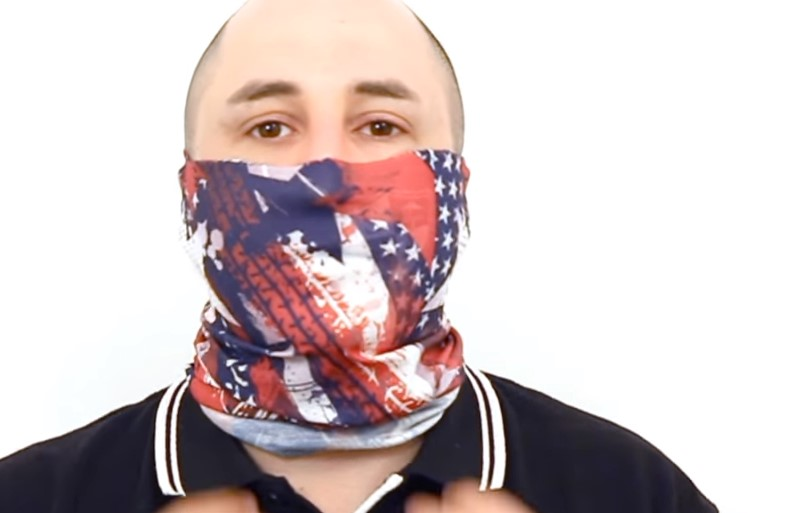face_with_mask: (176, 1, 469, 356)
